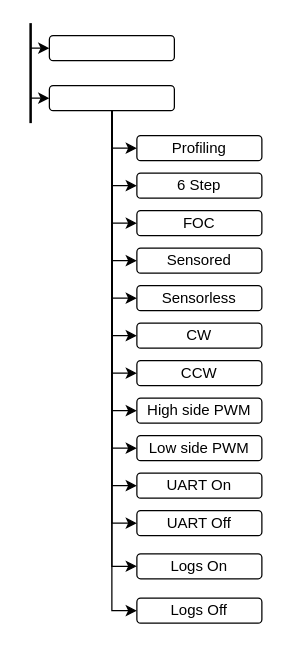
Image size: 284x645. Some labels were removed from this diagram. Here are the shapes that lost their labels. From the top down, the box of each, then its label:
(48, 34, 174, 61): Start/Stop/Ack
(48, 84, 174, 111): Settings
